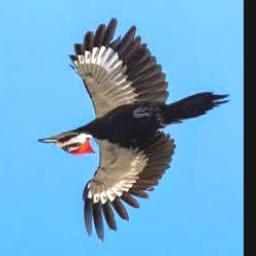Woodpecker: (37, 18, 230, 245)
